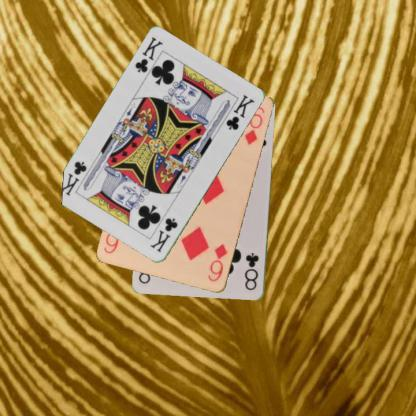6d: (206, 241, 228, 283)
8c: (242, 250, 261, 292)
Kc: (132, 35, 165, 74), (147, 216, 179, 254)
